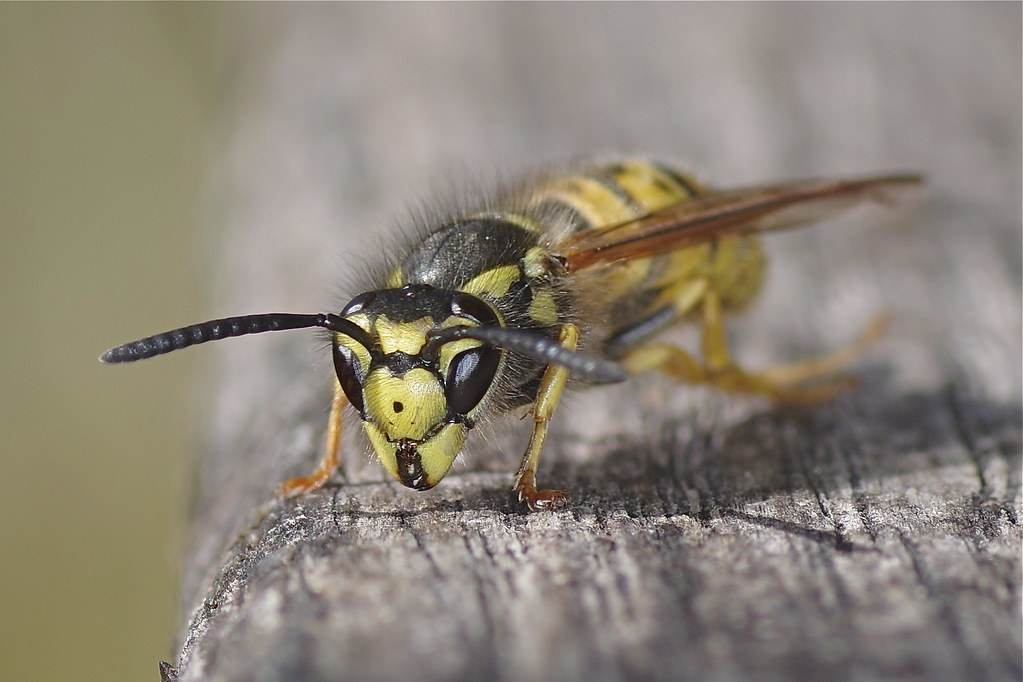chax: (80, 129, 957, 538)
